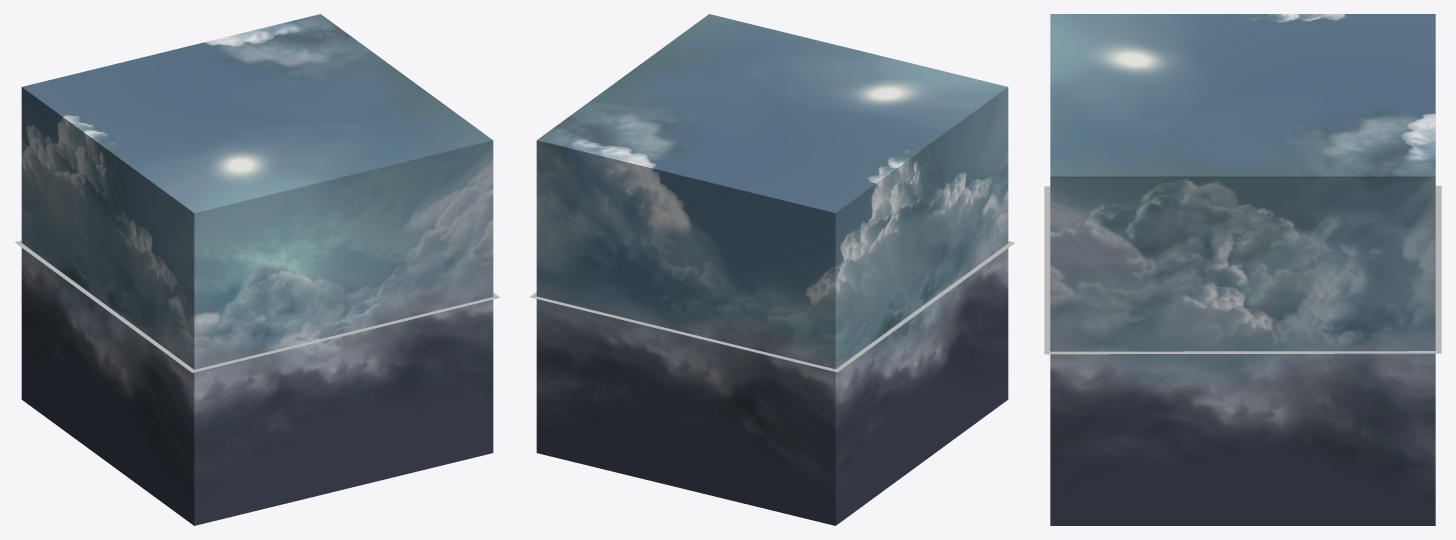
The model's file is essentials.dae.
The picture shows the model from 3 angles, left to right: view 1: azimuth 30°, elevation 25°; view 2: azimuth 150°, elevation 25°; view 3: azimuth 270°, elevation 25°; orthographic projection. The views are drawn at different scales.
Parts seen in each view (by area): view 1: Skybox, Grass; view 2: Skybox, Grass; view 3: Skybox, Grass.
Boxes of the visible parts, box(x1,y1,x2,y2) form: Skybox: box(21, 14, 493, 525); Grass: box(14, 240, 500, 372); Skybox: box(536, 14, 1008, 525); Grass: box(530, 241, 1014, 372); Skybox: box(1050, 14, 1435, 525); Grass: box(1044, 185, 1441, 354).
Bounding box in the file's own units: 35.31 × 35.31 × 34.24.
